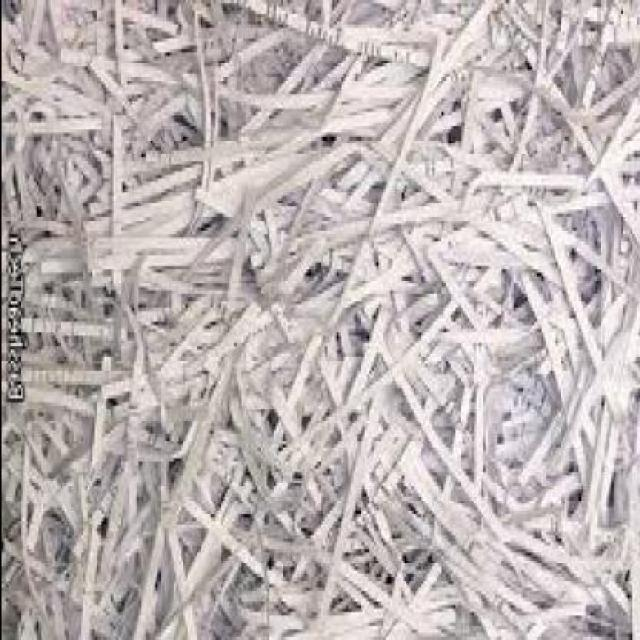PAPER: (0, 3, 638, 640)
